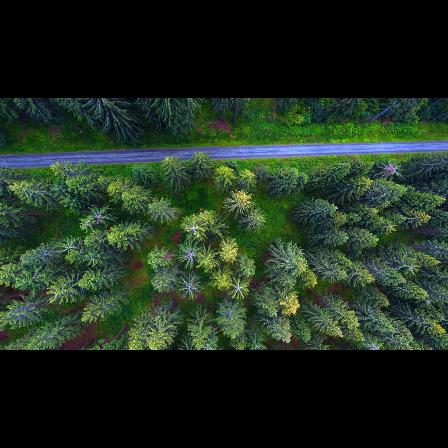Dead: (373, 159, 404, 182)
Sick: (177, 243, 206, 272), (178, 274, 203, 302), (224, 278, 252, 299), (89, 206, 112, 231), (382, 216, 399, 234)
